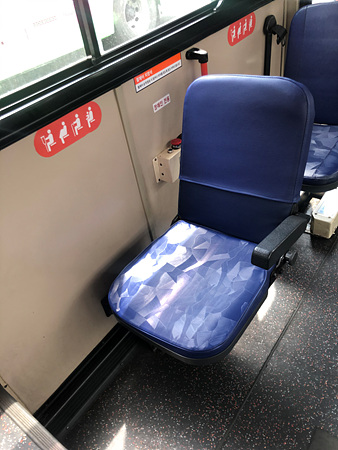seat: (106, 77, 303, 354)
